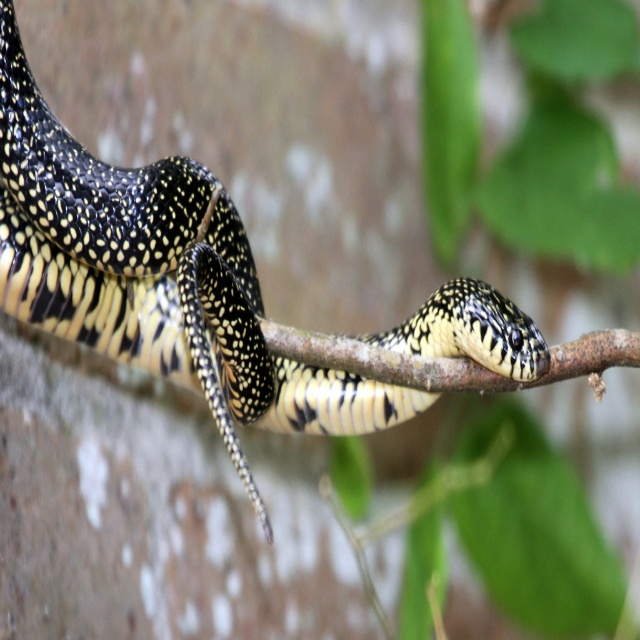Snake: (0, 0, 551, 542)
